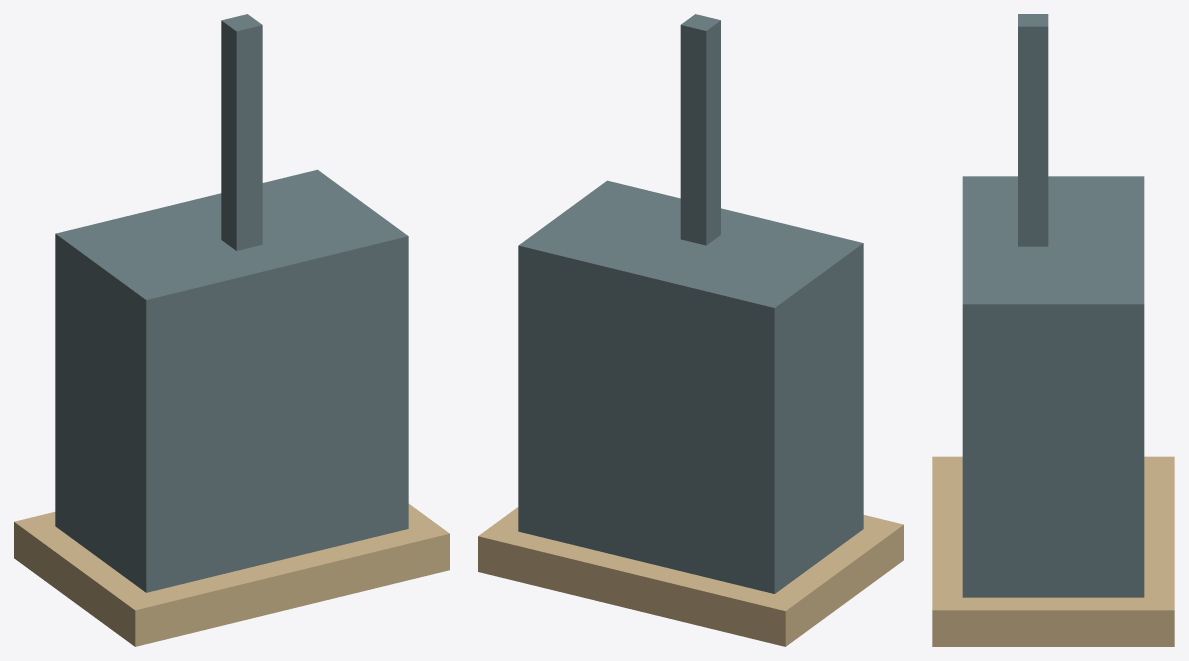
File: Precision-farming-station.glb
3 views of the same model, side by side, from view 1: azimuth 30°, elevation 25°; view 2: azimuth 150°, elevation 25°; view 3: azimuth 270°, elevation 25° (orthographic). The views are drawn at different scales.
Visible parts, largest first — view 1: precision-farming-station-static-precision-metal, precision-farming-station-static-precision-stone; view 2: precision-farming-station-static-precision-metal, precision-farming-station-static-precision-stone; view 3: precision-farming-station-static-precision-metal, precision-farming-station-static-precision-stone.
Boxes of the visible parts, x1,y1,x2,y2 form: precision-farming-station-static-precision-metal: [55, 14, 408, 592]; precision-farming-station-static-precision-stone: [14, 504, 449, 646]; precision-farming-station-static-precision-metal: [518, 14, 863, 593]; precision-farming-station-static-precision-stone: [478, 507, 903, 646]; precision-farming-station-static-precision-metal: [962, 14, 1144, 597]; precision-farming-station-static-precision-stone: [932, 456, 1174, 646].
Bounding box in the file's own units: 1.8 × 3 × 1.2.
